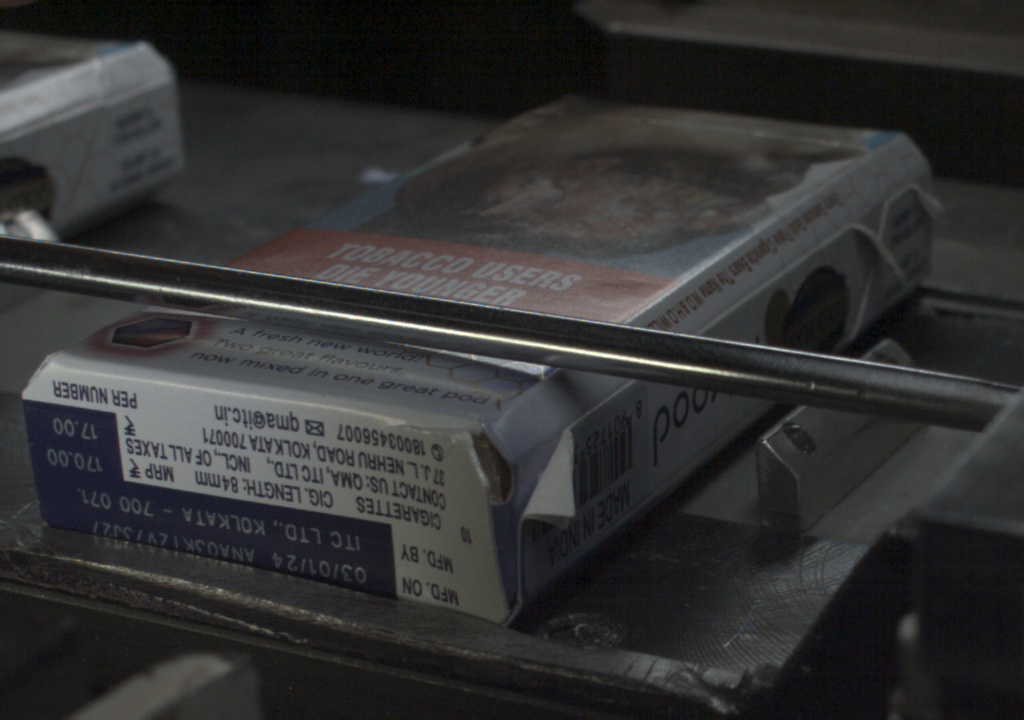g_label: (34, 478, 394, 597)
ng_bottom: (428, 423, 515, 627)
ng_lmiter: (518, 427, 577, 528), (841, 224, 907, 283)
ng_miter: (881, 173, 946, 223)
price: (30, 411, 116, 477)
